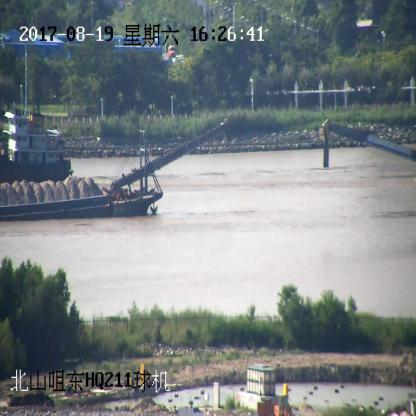Bulk Carrier: (0, 102, 72, 178)
